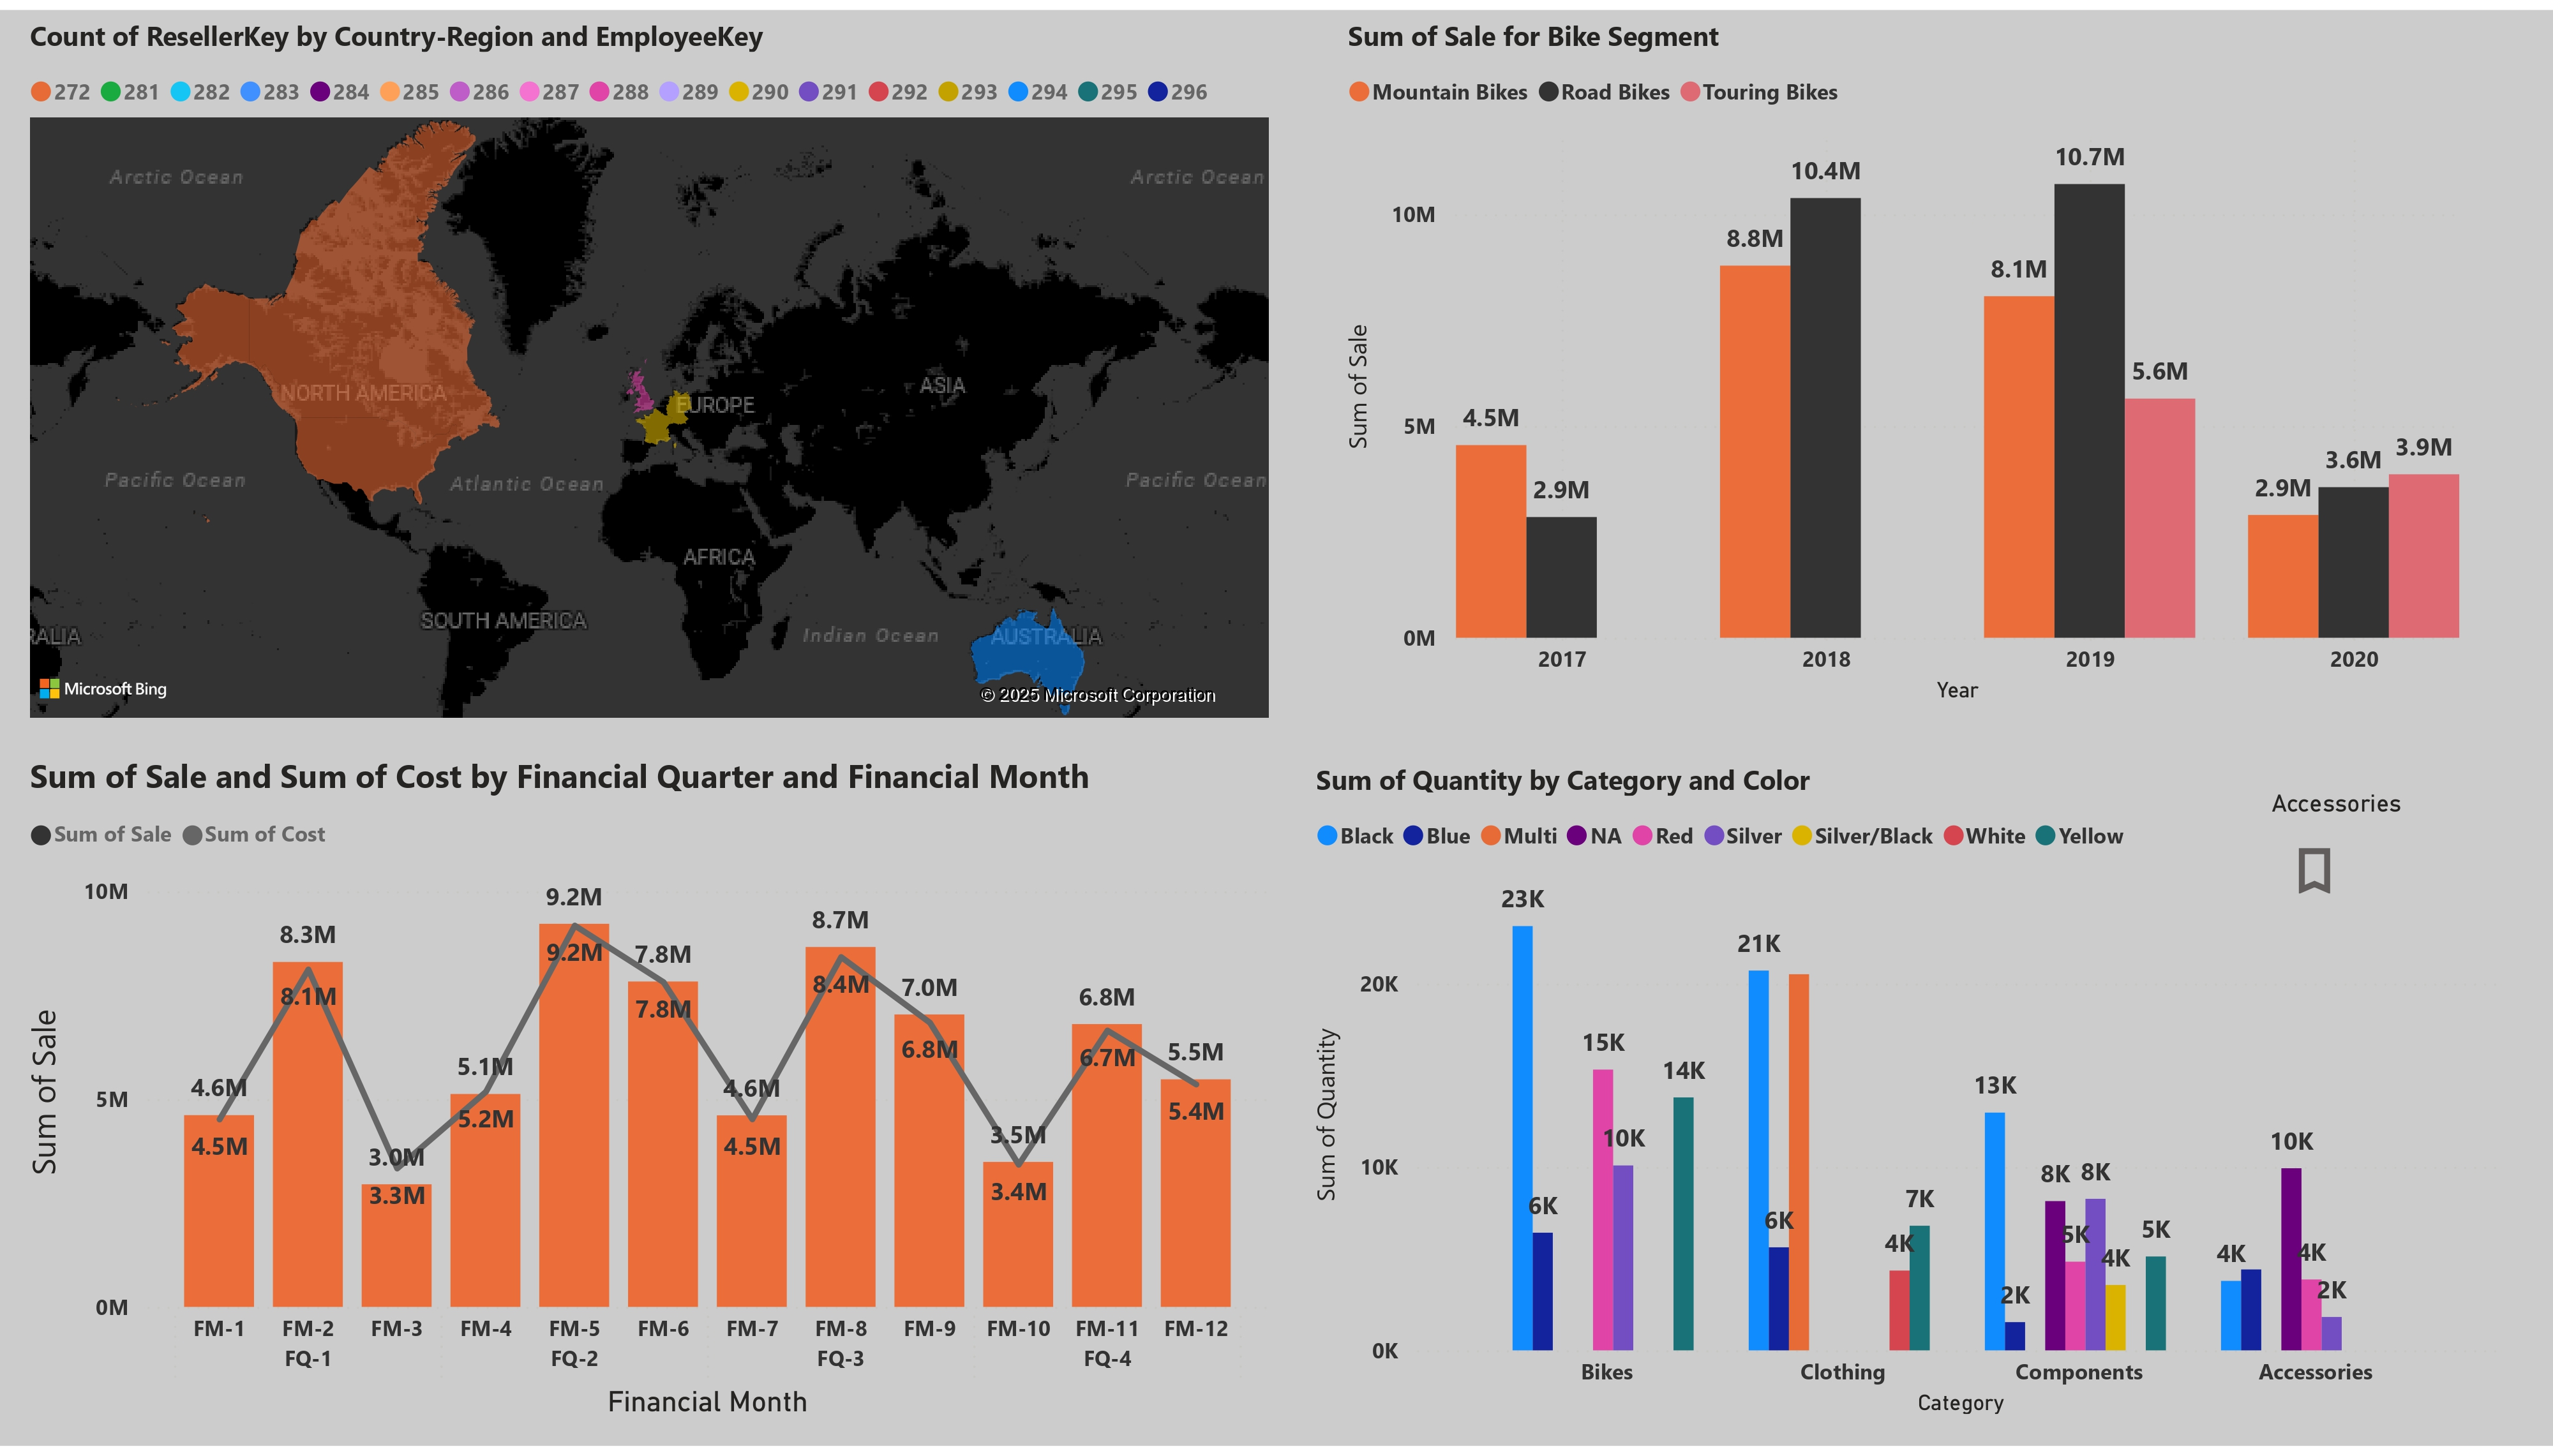

The page's visual inventory and layout, read from the dashboard file:
{"tool":"powerbi","page":{"name":"3","canvas":[1280,720],"ordinal":2},"visuals":[{"type":"clusteredColumnChart","title":"Sum of Sale for Bike Segment","fields":{"Category":["Sales.Order Date.Variation.Date Hierarchy.Year","Sales.Order Date.Variation.Date Hierarchy.Quarter","Sales.Order Date.Variation.Date Hierarchy.Month","Sales.Order Date.Variation.Date Hierarchy.Day"],"Y":["Sum(Sales.Sale)"],"Series":["Sales.Subcategory"]},"box":[670.8,3.6,567,347.5],"z":0},{"type":"filledMap","fields":{"Series":["Sales.EmployeeKey"],"Category":["Reseller.Country-Region"]},"box":[9.7,3.6,631,355.9],"z":1000},{"type":"lineClusteredColumnComboChart","fields":{"Category":["Sales.Financial Quarter","Sales.Financial Month"],"Y":["Sum(Sales.Sale)"],"Y2":["Sum(Sales.Cost)"]},"box":[9.6,372.7,630.4,338],"z":2000},{"type":"group","id":"g1","title":"Group 1","box":[655,376.7,605.6,331.8],"z":3000},{"type":"clusteredColumnChart","fields":{"Category":["Sales.Category"],"Y":["Sum(Sales.Quantity)"],"Series":["Sales.Color"]},"box":[655,376.7,605.6,331.8],"z":6000,"group":"g1"},{"type":"actionButton","title":"Accessories","box":[1139.3,391.1,74.3,62.3],"z":7000,"group":"g1"}]}

Visuals, with their boxes in screenshot pixels (x1, y1, x2, y2), scaled from the page's 1280x720 canvas onto the 2553x1456 screenshot:
"Sum of Sale for Bike Segment" clusteredColumnChart: select_region(1338, 7, 2469, 710)
filledMap - Sales.EmployeeKey x Reseller.Country-Region: select_region(19, 7, 1278, 727)
lineClusteredColumnComboChart - Sales.Financial Quarter x Sales.Financial Month: select_region(19, 754, 1276, 1437)
"Group 1" group: select_region(1306, 762, 2514, 1433)
clusteredColumnChart - Sales.Category x Sum(Sales.Quantity): select_region(1306, 762, 2514, 1433)
"Accessories" actionButton: select_region(2272, 791, 2420, 917)
